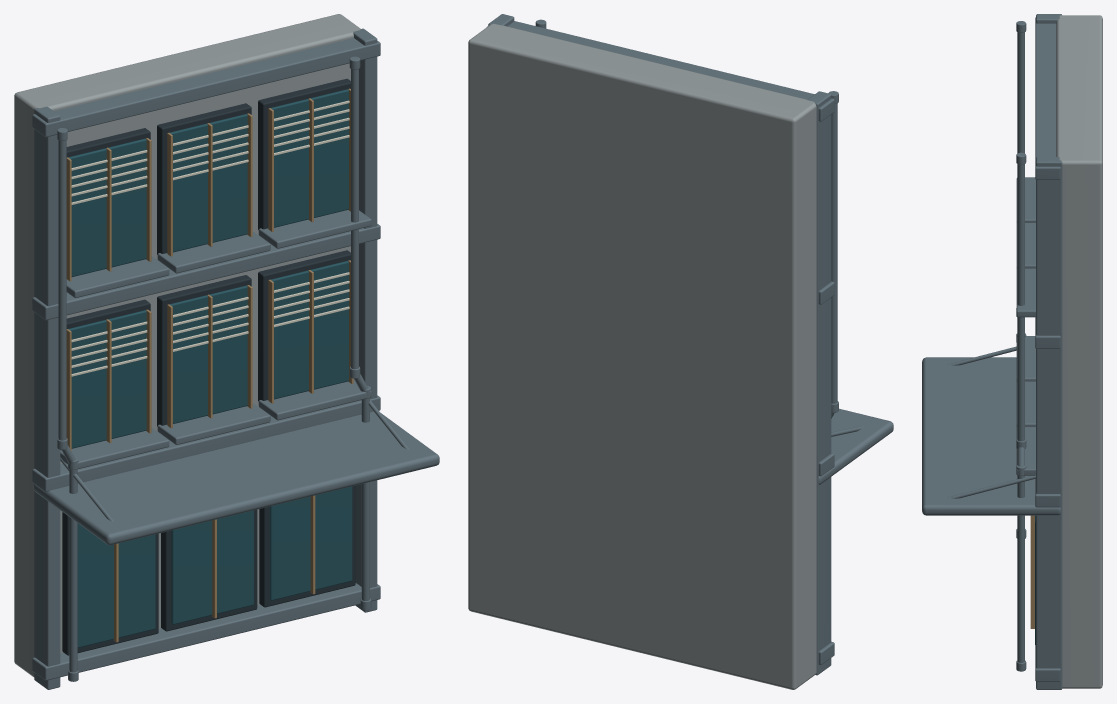
Rendered from facade.glb.
3 views of the same model, side by side, from view 1: azimuth 30°, elevation 25°; view 2: azimuth 150°, elevation 25°; view 3: azimuth 270°, elevation 25° (orthographic). The views are drawn at different scales.
Parts seen in each view (by area): view 1: facade_metal, facade_glass, facade_concrete, facade_dark, facade_bronze, facade_ivory; view 2: facade_concrete, facade_metal; view 3: facade_metal, facade_concrete, facade_bronze.
Boxes of the visible parts, x1,y1,x2,y2 form: facade_metal: (32, 28, 439, 689); facade_glass: (68, 89, 352, 647); facade_concrete: (14, 14, 360, 677); facade_dark: (61, 78, 355, 655); facade_bronze: (66, 88, 353, 642); facade_ivory: (71, 100, 349, 376); facade_concrete: (468, 23, 816, 689); facade_metal: (487, 14, 893, 675); facade_metal: (922, 14, 1062, 689); facade_concrete: (1056, 15, 1102, 688); facade_bronze: (1030, 515, 1034, 628).
Bounding box in the file's own units: 6.14 × 10 × 3.1.
